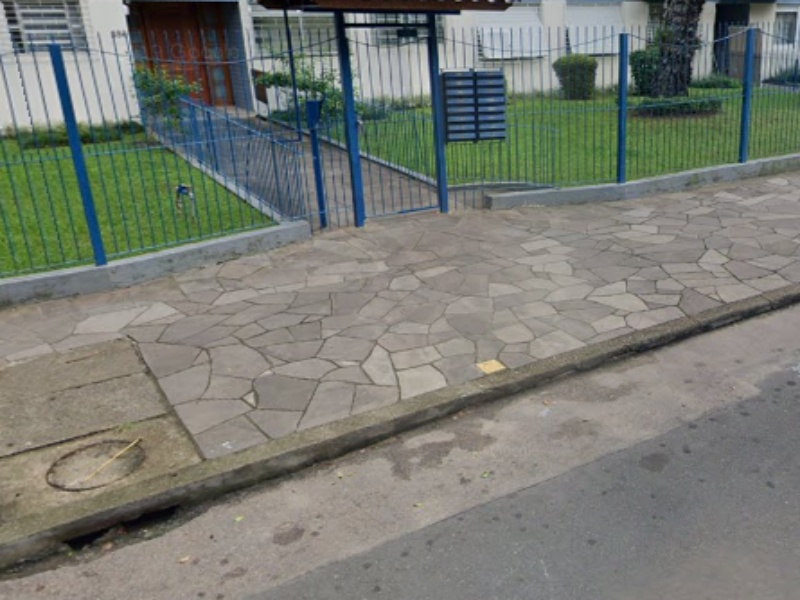v23: (3, 249, 790, 588)
